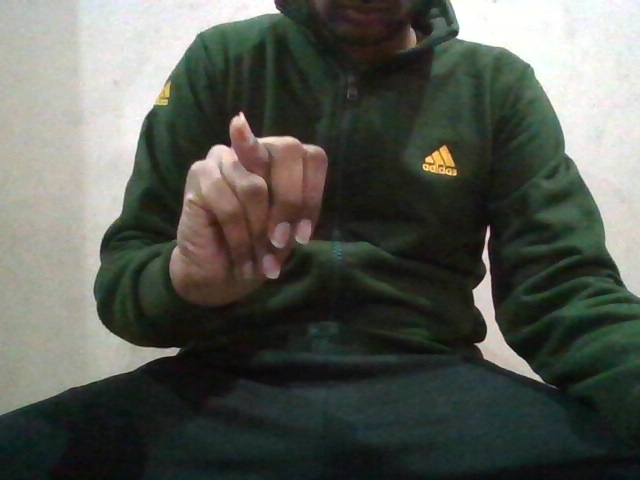N: (177, 110, 332, 297)
